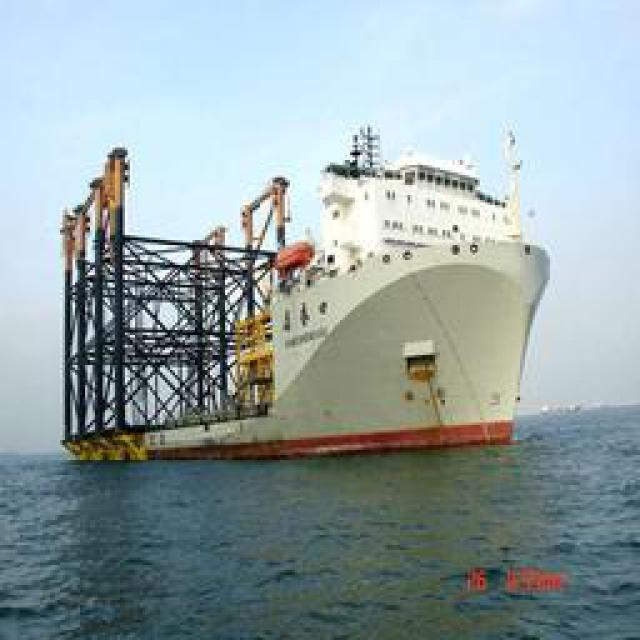Ship: (59, 122, 544, 465)
